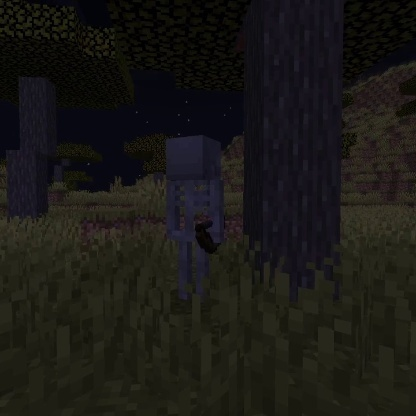skeleton: (159, 130, 229, 304)
